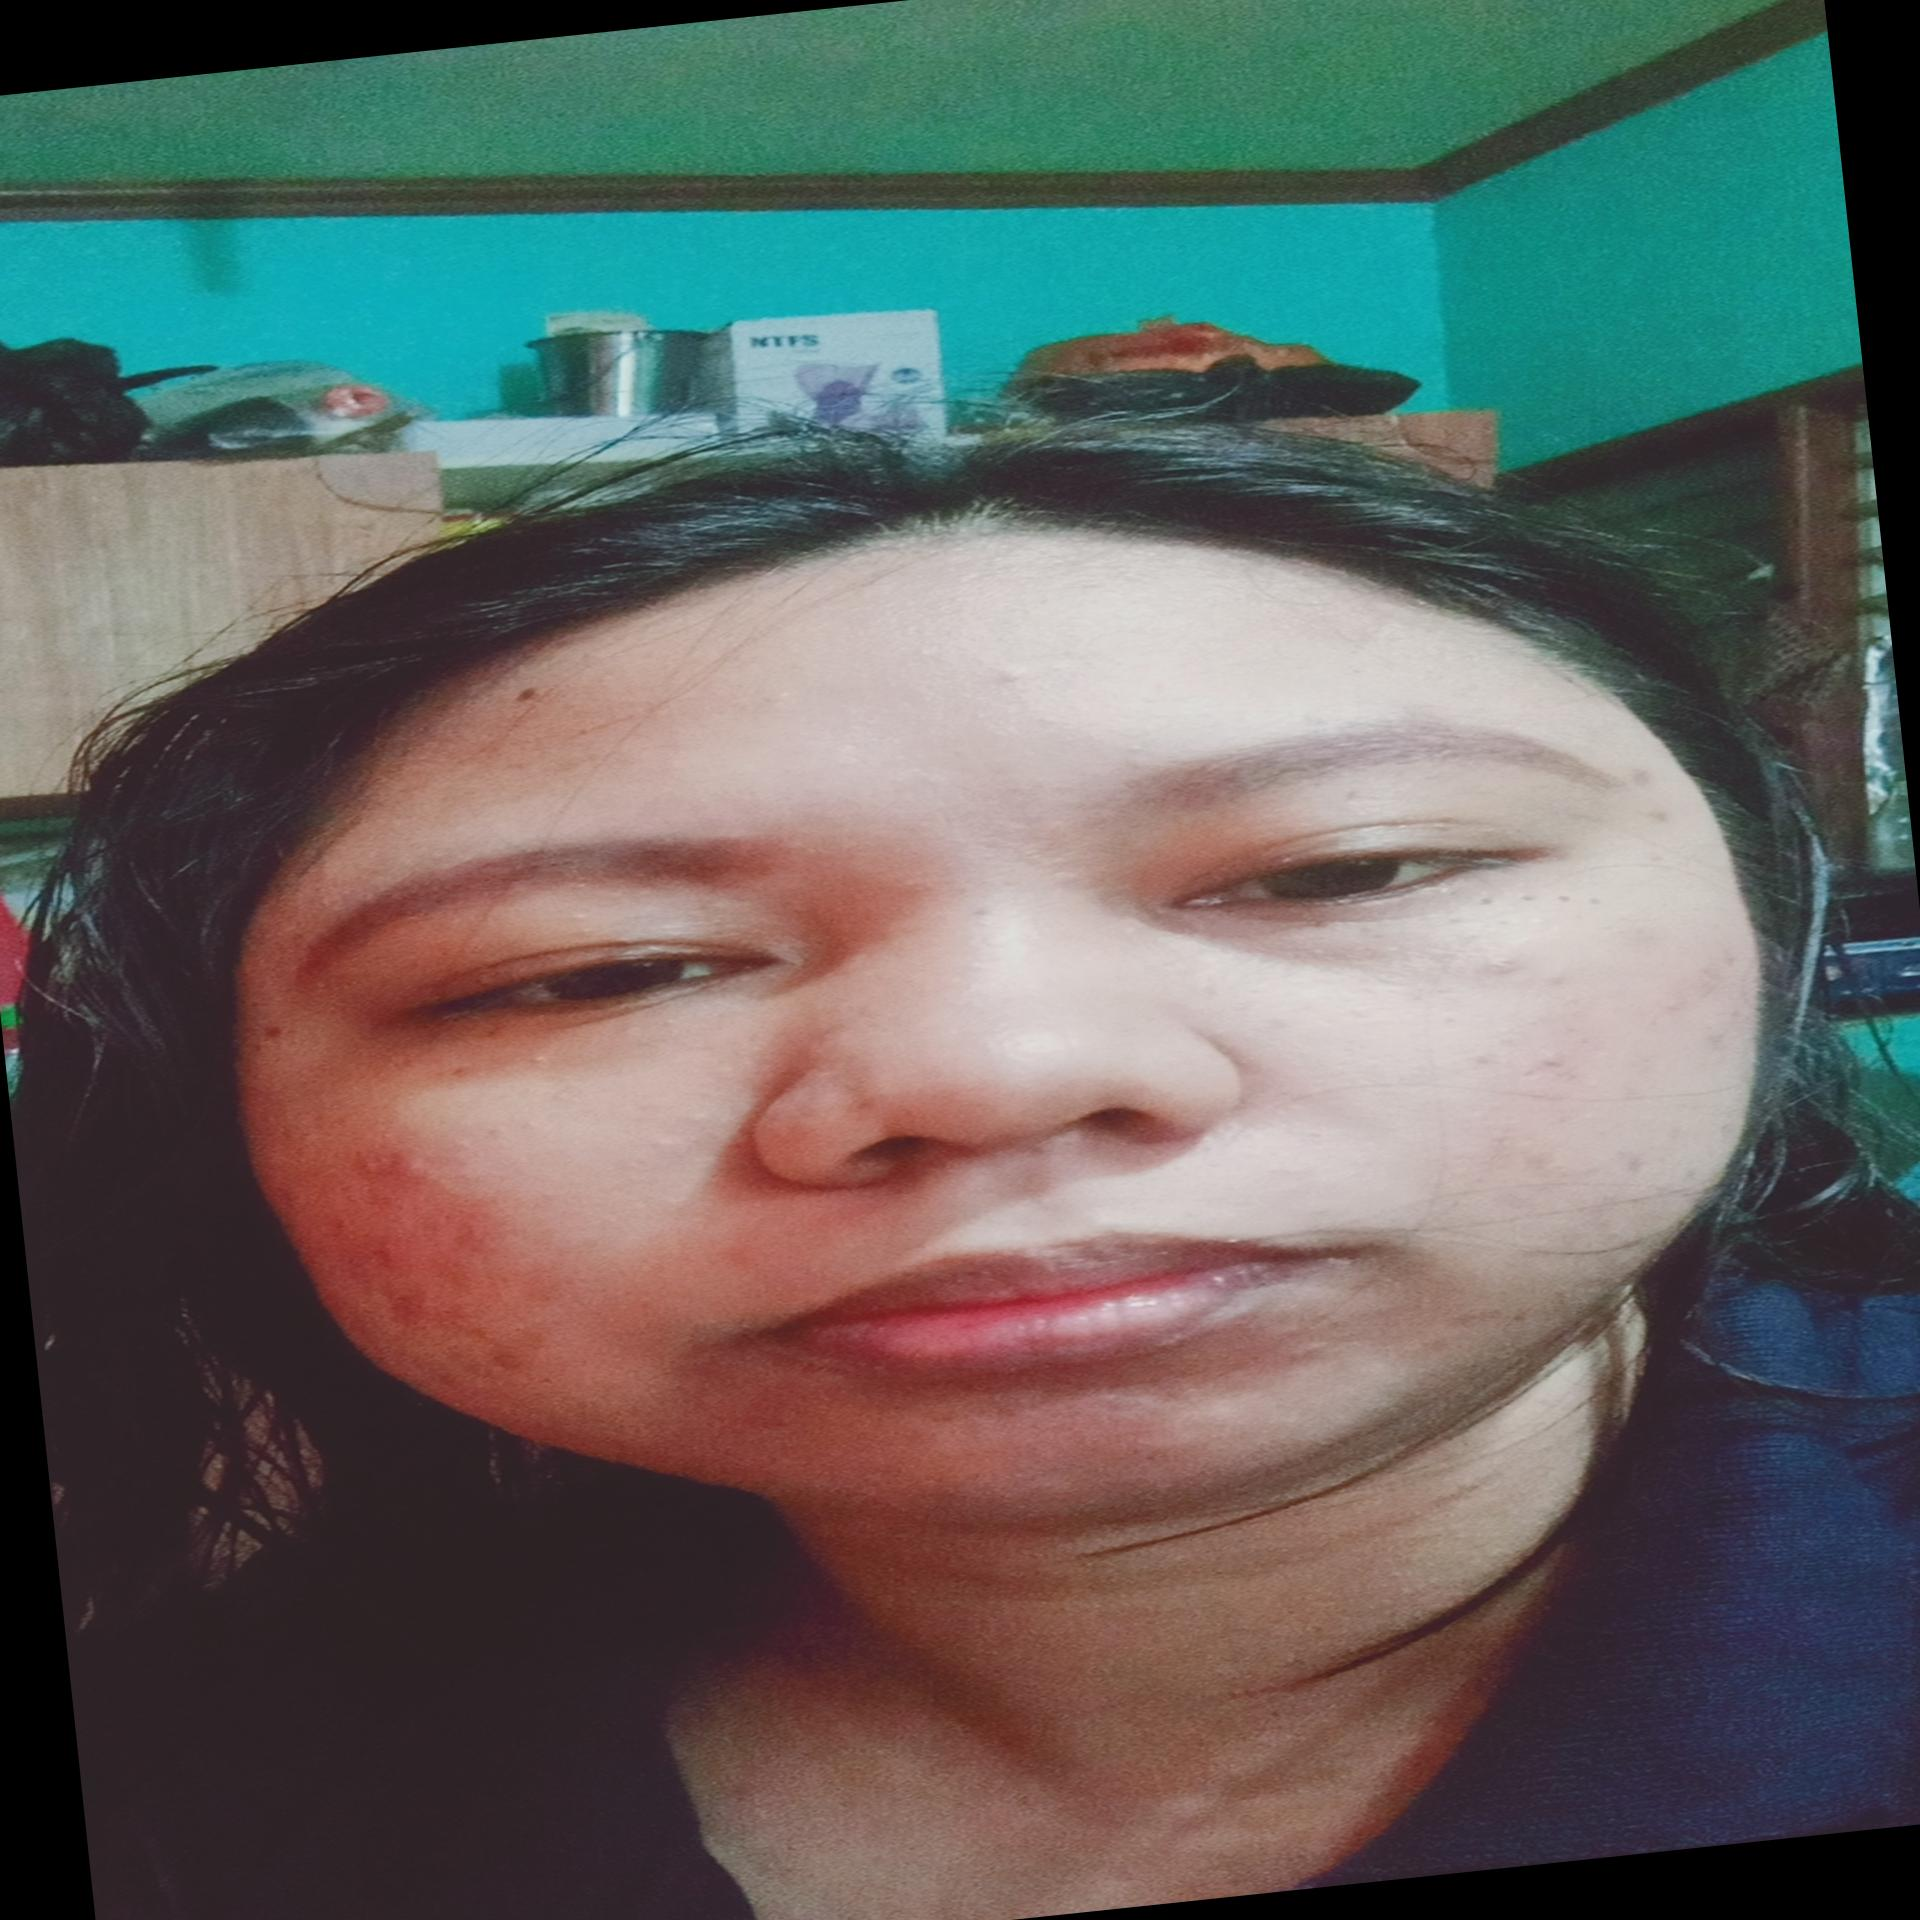Acne: (339, 1141, 459, 1187), (476, 1338, 566, 1398), (974, 656, 1069, 709), (1604, 1141, 1672, 1189), (1514, 1043, 1582, 1085), (371, 1287, 434, 1331), (1480, 941, 1533, 981), (745, 682, 812, 714), (1454, 1303, 1517, 1335), (360, 1241, 418, 1273), (313, 1213, 369, 1245), (1633, 804, 1690, 833), (1509, 1148, 1561, 1180), (1651, 997, 1704, 1027), (448, 1220, 491, 1257), (494, 682, 556, 707), (1459, 1046, 1512, 1074), (1616, 761, 1662, 791), (1284, 1335, 1329, 1363), (517, 1050, 557, 1069)
